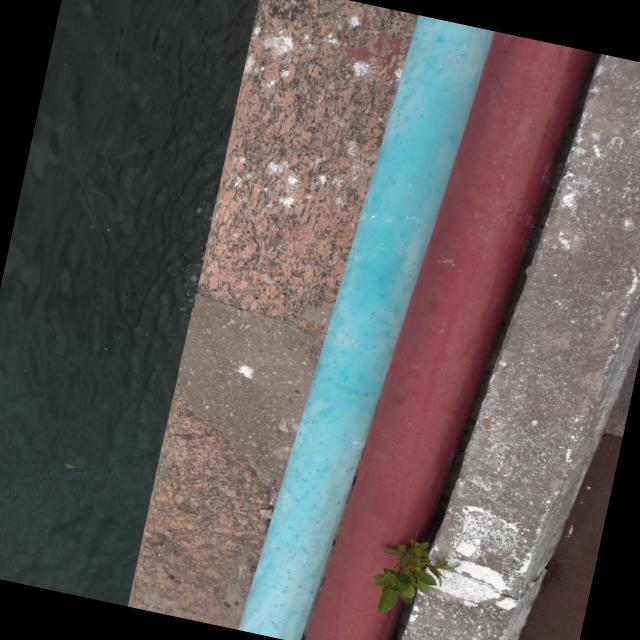gas: (304, 31, 594, 640), (239, 16, 495, 640)
